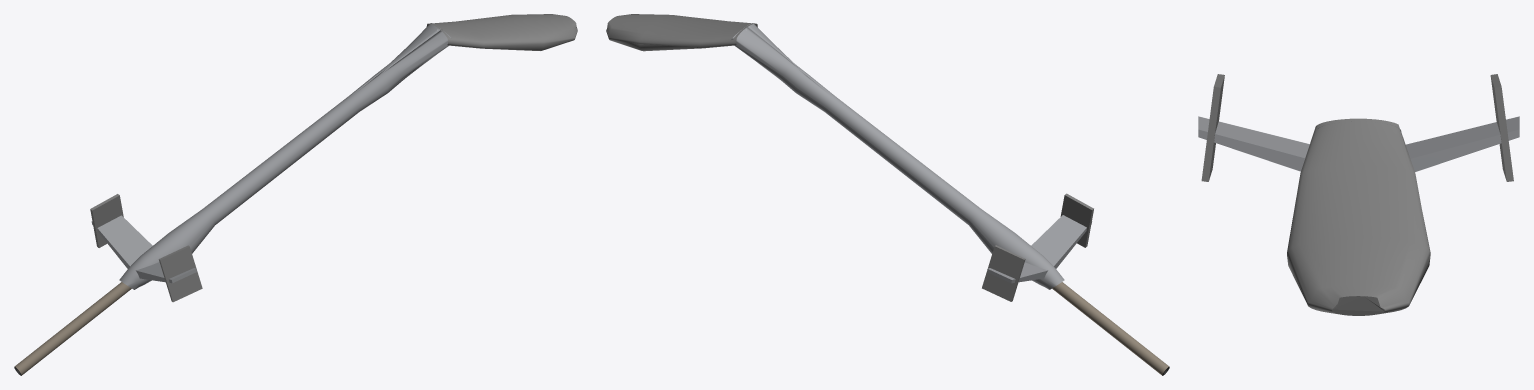
The picture shows the model from 3 angles, left to right: view 1: azimuth 30°, elevation 25°; view 2: azimuth 150°, elevation 25°; view 3: azimuth 270°, elevation 25°; orthographic projection. The views are drawn at different scales.
Visible parts, largest first — view 1: 立方体.001, boom.002, innerBoom.002; view 2: 立方体.001, boom.002, innerBoom.002; view 3: boom.002, 立方体.001.
Part boxes in pixels (box(x1,y1,x2,y2)): 立方体.001: box(90, 23, 451, 302); boom.002: box(426, 14, 577, 50); innerBoom.002: box(14, 282, 131, 375); 立方体.001: box(731, 23, 1093, 301); boom.002: box(606, 14, 757, 51); innerBoom.002: box(1052, 282, 1169, 375); boom.002: box(1287, 118, 1430, 315); 立方体.001: box(1198, 74, 1519, 181).
Size of the model in its own units: 14.97 by 6.32 by 3.74.
